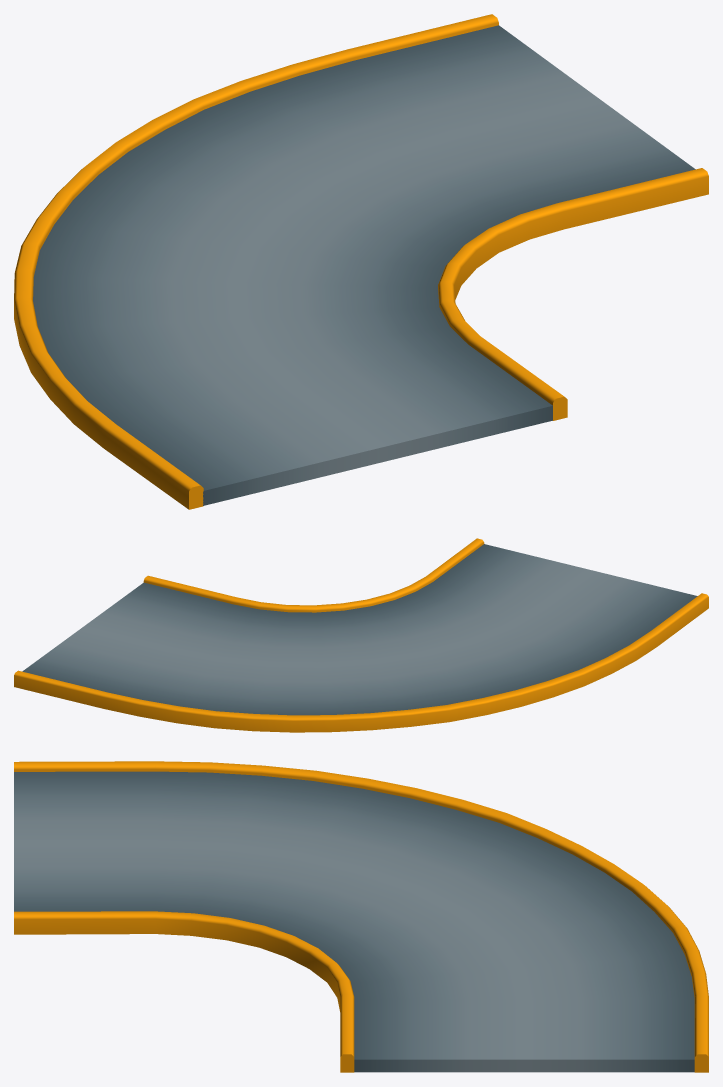
The model's file is platform_007.fbx.
The picture shows the model from 3 angles, top to bottom: view 1: azimuth 30°, elevation 25°; view 2: azimuth 150°, elevation 25°; view 3: azimuth 270°, elevation 25°; orthographic projection. The views are drawn at different scales.
Parts seen in each view (by area): view 1: platform_007; view 2: platform_007; view 3: platform_007.
Part boxes in pixels (x1=…): platform_007: x1=14, y1=14, x2=708, y2=509; platform_007: x1=14, y1=538, x2=708, y2=732; platform_007: x1=14, y1=761, x2=708, y2=1072.
Bounding box in the file's own units: 2454 × 2450 × 71.07.
